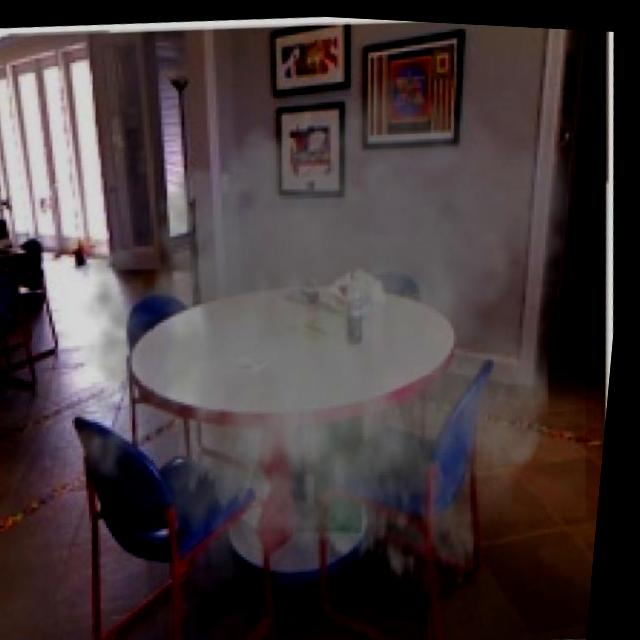no_helmet: (52, 43, 594, 632)
